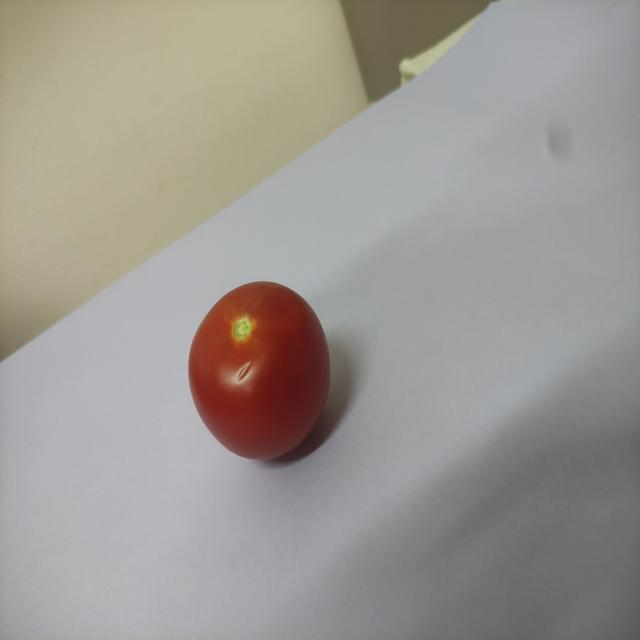kirmizi: (174, 260, 346, 474)
